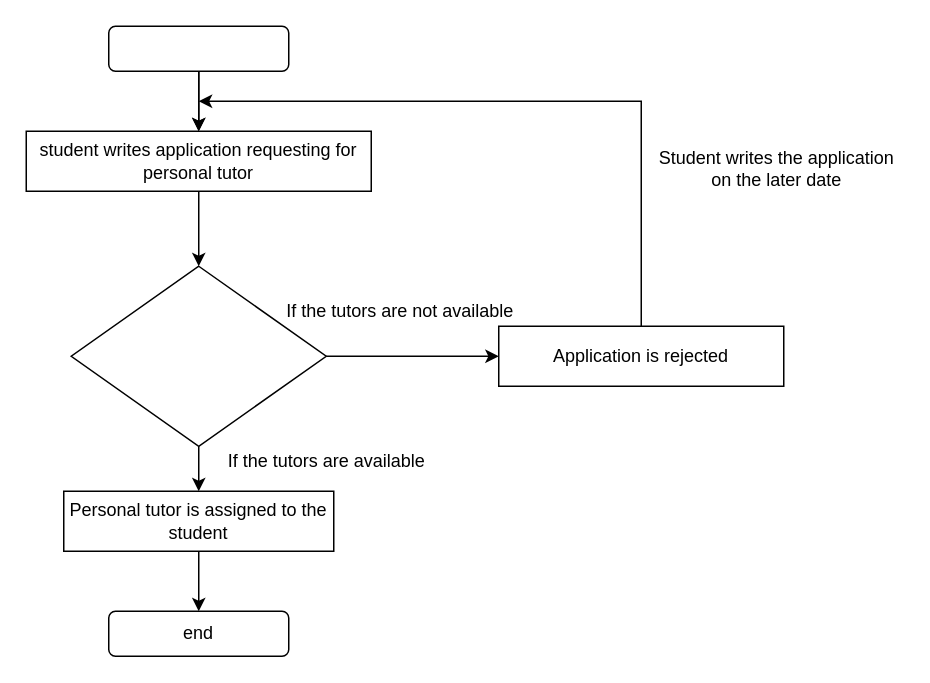
Image size: 930x683. Some labels were removed from this diagram. Here are the shapes that lost their labels. From the top down, the centre of each, then its label:
At point 198,48: "start".
At point 198,355: "admin reviews the application and sees the availability of tutors".
